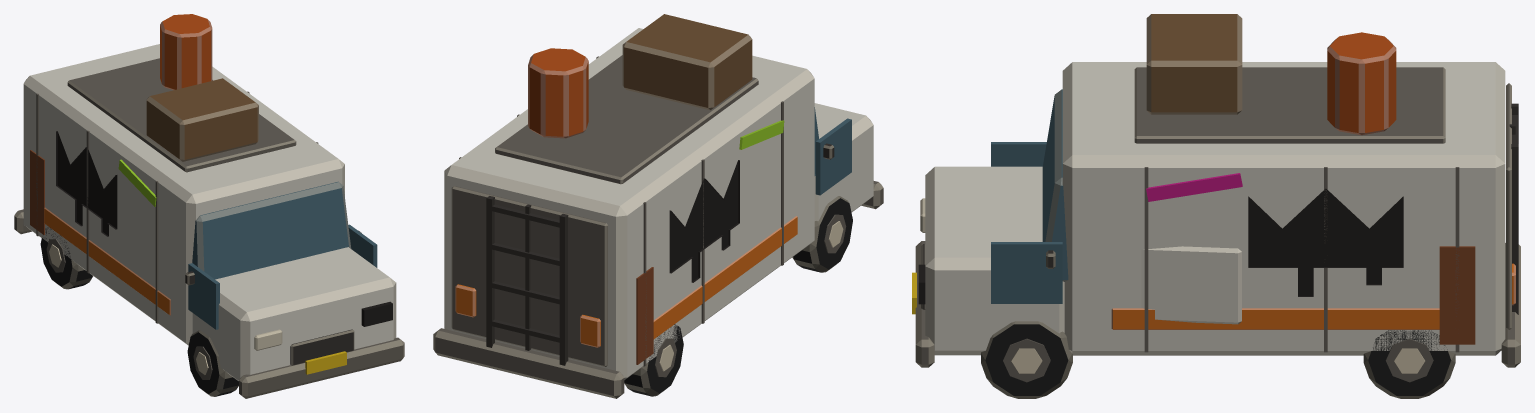
The model's file is c_car_van.glb.
3 views of the same model, side by side, from view 1: azimuth 30°, elevation 25°; view 2: azimuth 150°, elevation 25°; view 3: azimuth 270°, elevation 25° (orthographic). The views are drawn at different scales.
Parts seen in each view (by area): view 1: c_car_van; view 2: c_car_van; view 3: c_car_van.
Boxes of the visible parts, x1,y1,x2,y2 form: c_car_van: (14, 14, 404, 398); c_car_van: (433, 14, 883, 398); c_car_van: (912, 14, 1520, 398).
Bounding box in the file's own units: 2.2 × 3 × 5.09.
